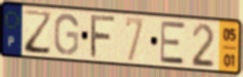2: (191, 21, 216, 68)
7: (124, 15, 147, 64)
E: (159, 20, 186, 66)
F: (88, 14, 118, 60)
G: (52, 12, 80, 57)
Z: (22, 8, 54, 57)
